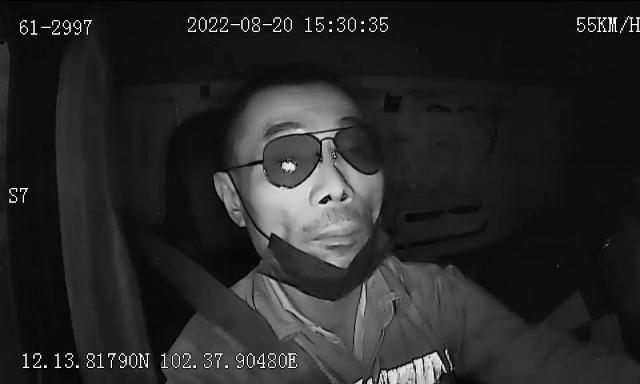Seatbelt: (182, 254, 334, 384)
